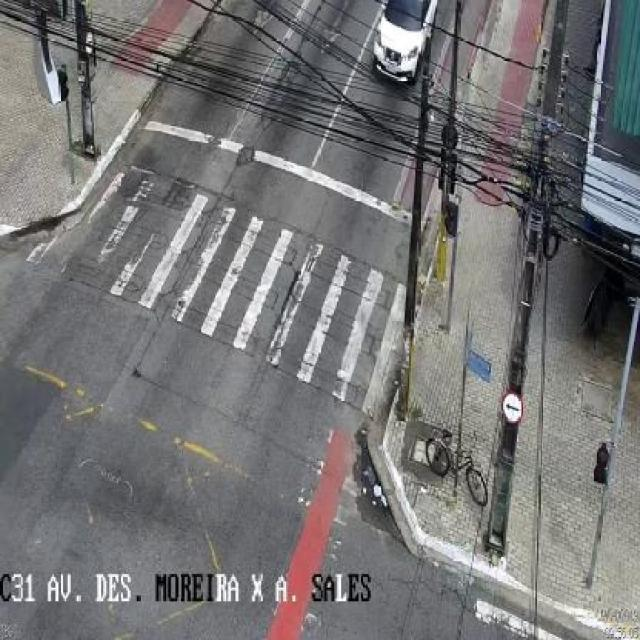Car: (371, 0, 437, 89)
Cycle: (426, 425, 490, 509)
